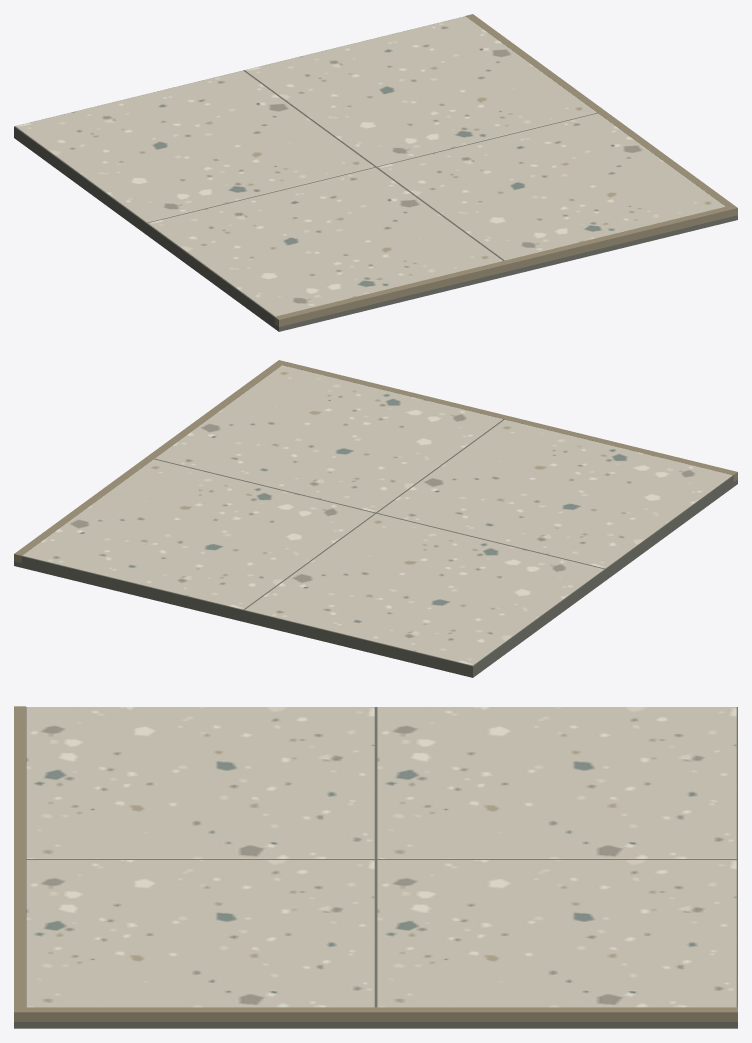
File: mall-floor-corner-tile.glb
3 views of the same model, one above another, from view 1: azimuth 30°, elevation 25°; view 2: azimuth 150°, elevation 25°; view 3: azimuth 270°, elevation 25° (orthographic). The views are drawn at different scales.
Parts seen in each view (by area): view 1: Stone slab.001, Stone slab.003, Stone slab, Stone slab.002, Corner inlay front, Grout support, Corner inlay right, Outer grout left; view 2: Stone slab.001, Stone slab, Stone slab.003, Stone slab.002, Grout support, Outer grout back, Corner inlay front, Corner inlay right, Outer grout left; view 3: Stone slab.001, Stone slab, Stone slab.003, Stone slab.002, Corner inlay right, Grout support, Corner inlay front, Centre grout X, Centre grout Y, Outer grout back, Centre grout Y.001.
Part boxes in pixels (<box>): Stone slab.001: <box>15,70,374,222</box>; Stone slab.003: <box>245,16,596,166</box>; Stone slab: <box>148,167,502,316</box>; Stone slab.002: <box>377,113,725,260</box>; Corner inlay front: <box>274,205,737,326</box>; Grout support: <box>14,133,737,331</box>; Corner inlay right: <box>465,14,733,206</box>; Outer grout left: <box>14,126,274,323</box>; Stone slab.001: <box>245,513,603,665</box>; Stone slab: <box>377,419,732,568</box>; Stone slab.003: <box>22,459,374,609</box>; Stone slab.002: <box>155,365,502,512</box>; Grout support: <box>14,479,737,677</box>; Outer grout back: <box>21,556,472,672</box>; Corner inlay front: <box>275,360,737,481</box>; Corner inlay right: <box>14,363,281,562</box>; Outer grout left: <box>472,475,733,672</box>; Stone slab.001: <box>377,707,736,859</box>; Stone slab: <box>26,707,374,859</box>; Stone slab.003: <box>377,860,736,1007</box>; Stone slab.002: <box>26,860,374,1007</box>; Corner inlay right: <box>26,1007,737,1021</box>; Grout support: <box>14,1022,737,1028</box>; Corner inlay front: <box>14,706,25,1021</box>; Centre grout X: <box>26,859,736,860</box>; Centre grout Y: <box>374,707,377,859</box>; Outer grout back: <box>736,707,737,1007</box>; Centre grout Y.001: <box>374,860,377,1007</box>.
Size of the model in its own units: 1.2 by 0.03 by 1.2.
Materials: 4 (1 with a texture image).
